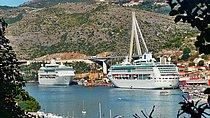Ship: (105, 51, 183, 92), (35, 58, 80, 89)
